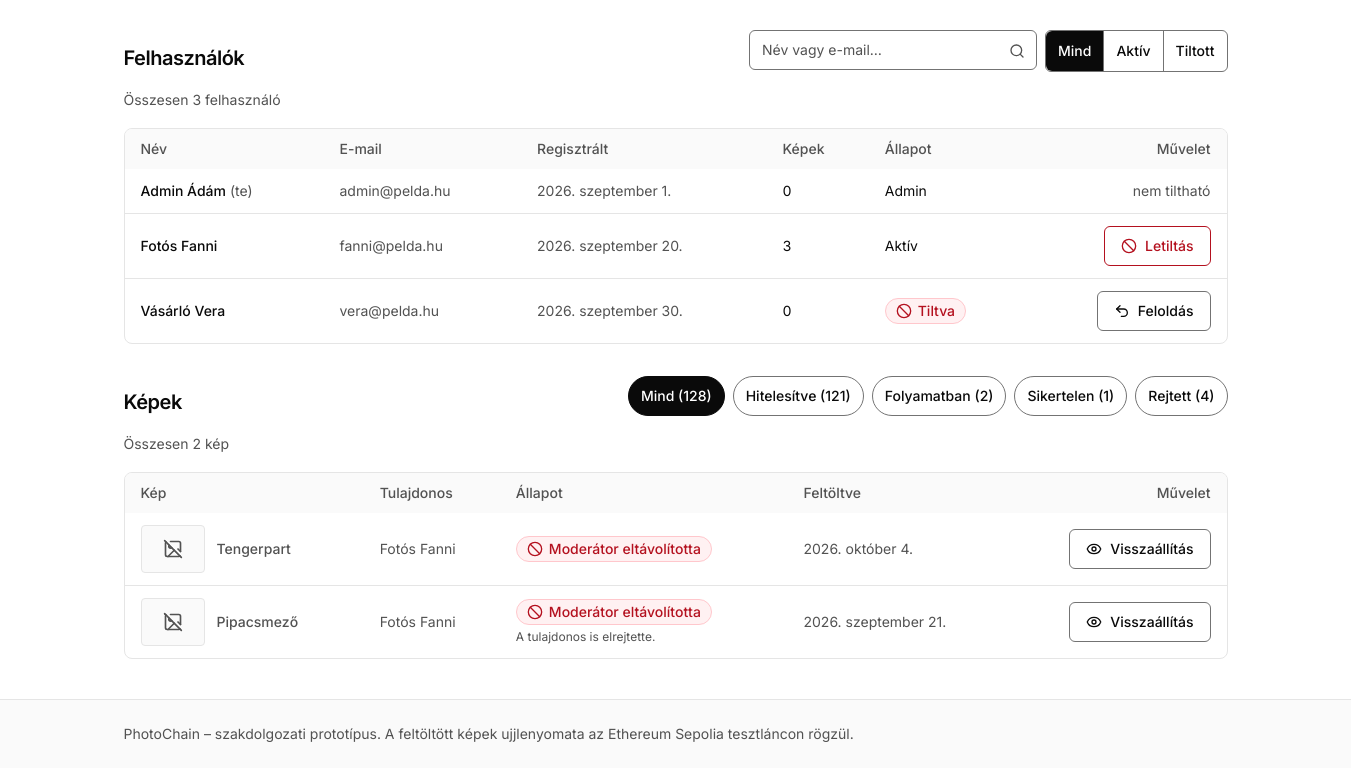
Test: AdminPage – képek moderálása és újrapróbálás › visszaállítás: PATCH {hidden: false} → Hitelesítve és Elrejtés gomb a fókusszal; ha a tulajdonos is elrejtette, a sor „a tulajdonos döntése” lesz, a fókusz a ké
The width and height of the screenshot is (1366, 768).
(page scrolled)
Expected: the text "Összesen 2 kép" is shown, x1=124 y1=435 x2=229 y2=452
Click the button named "Visszaállítás: Tengerpart": (1140, 549) x1=1069 y1=529 x2=1210 y2=569
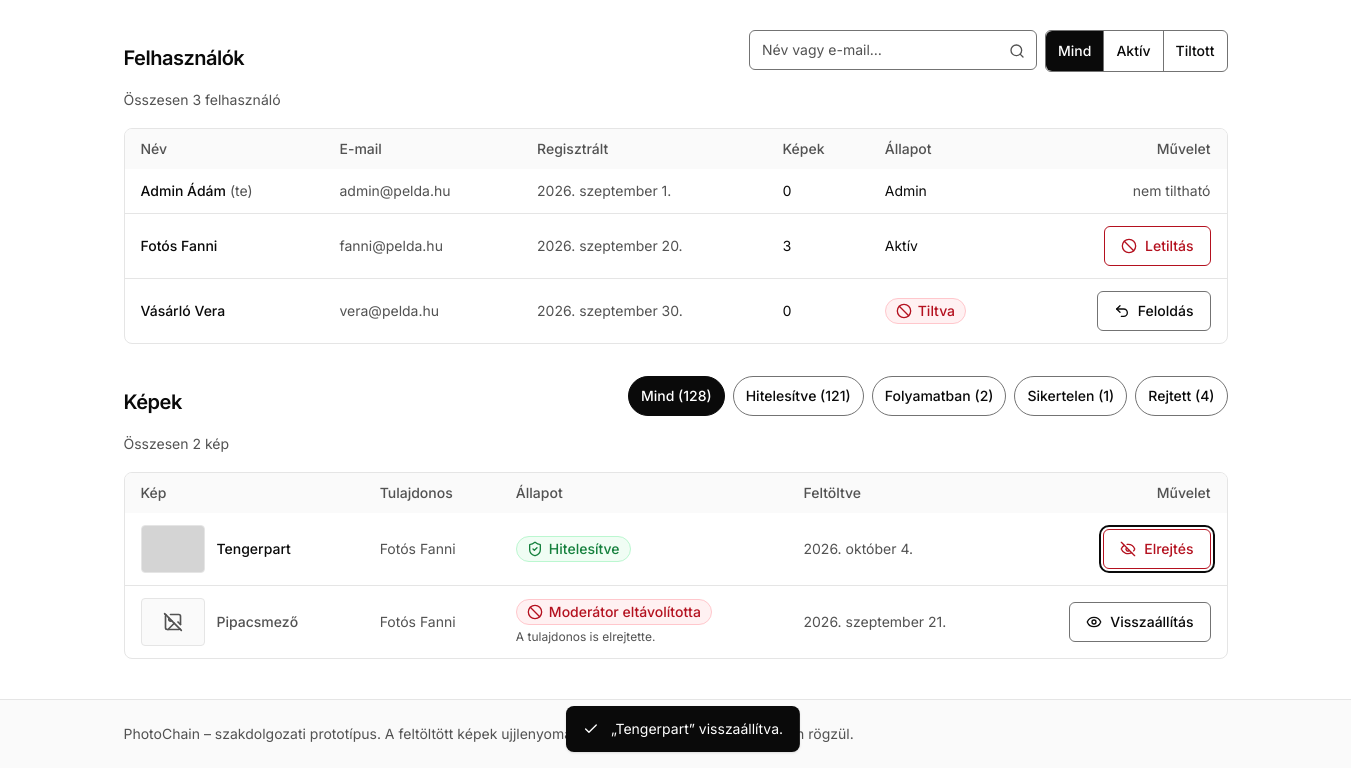
Expected: the text "Hitelesítve" is shown, x1=516 y1=536 x2=631 y2=562
Click the button named "Visszaállítás: Pipacsmező": (1140, 622) x1=1069 y1=602 x2=1210 y2=642
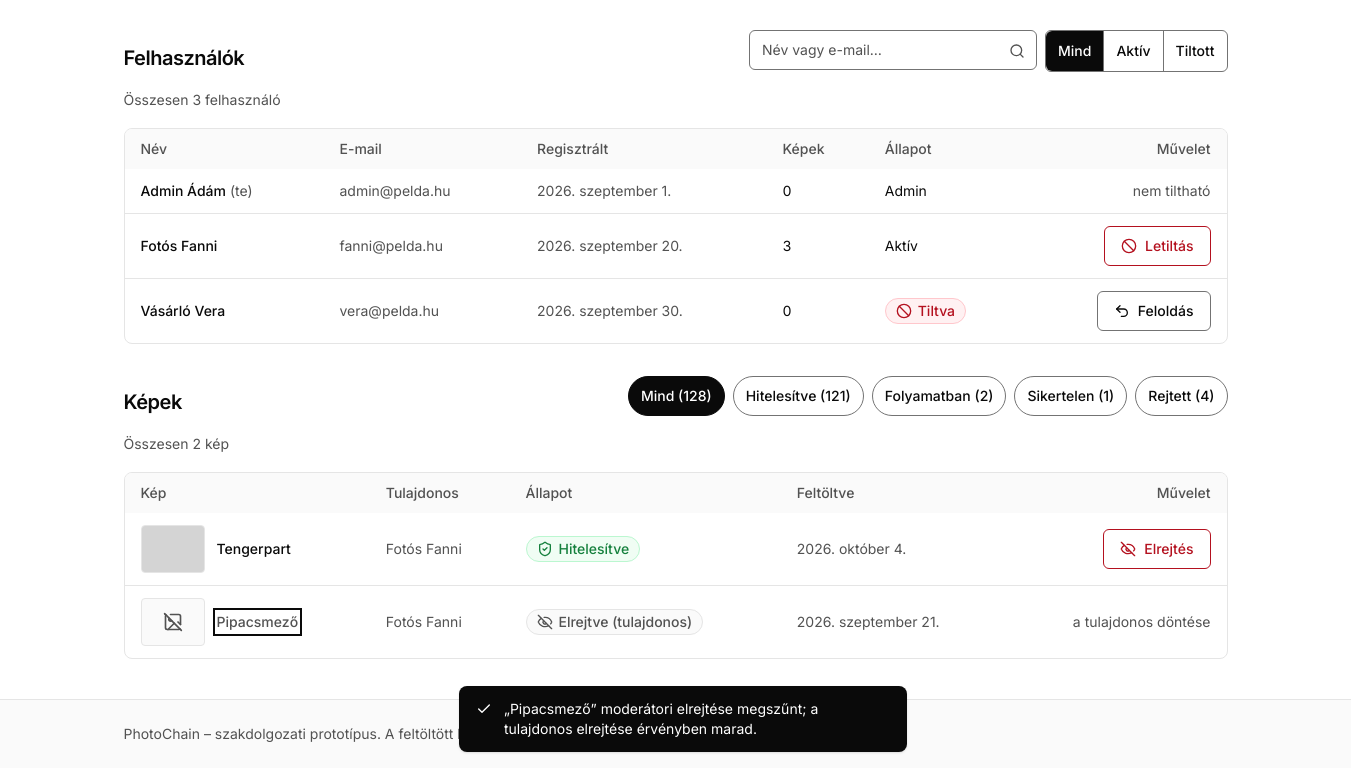
Expected: the text "a tulajdonos döntése" is shown, x1=1073 y1=613 x2=1210 y2=630
Expected: the text "Elrejtve (tulajdonos)" is shown, x1=526 y1=609 x2=703 y2=635
